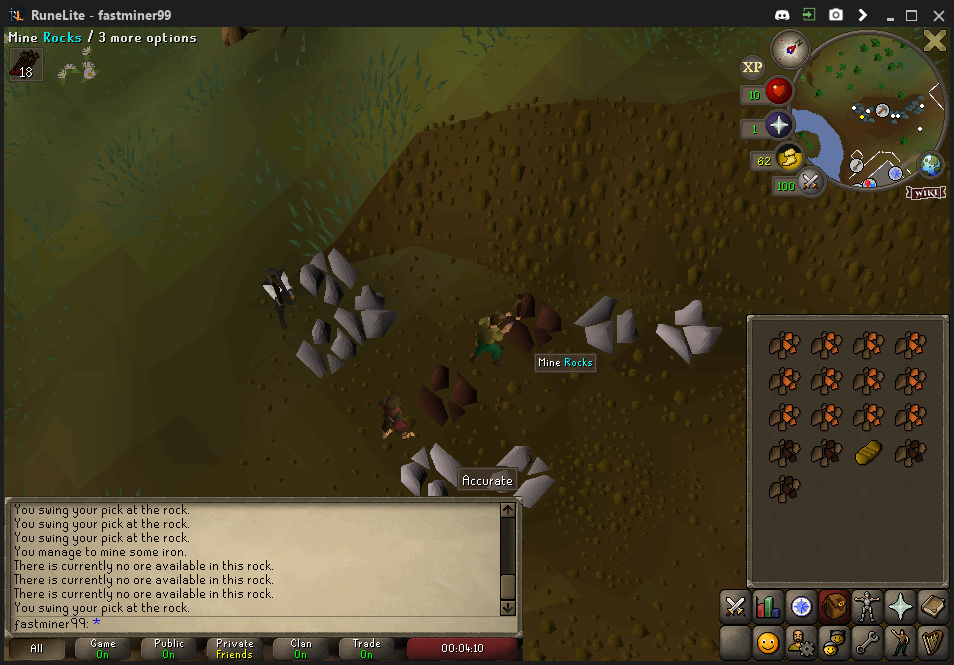ore: (413, 364, 483, 428), (499, 296, 564, 353)
